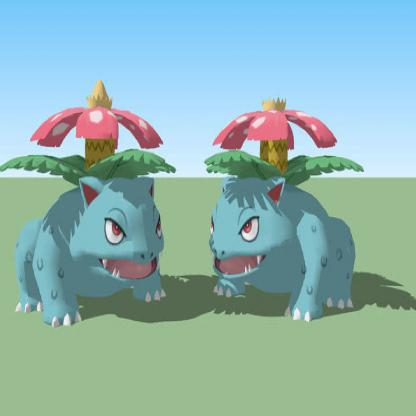Venusaur: (212, 80, 381, 341), (8, 76, 163, 329)
